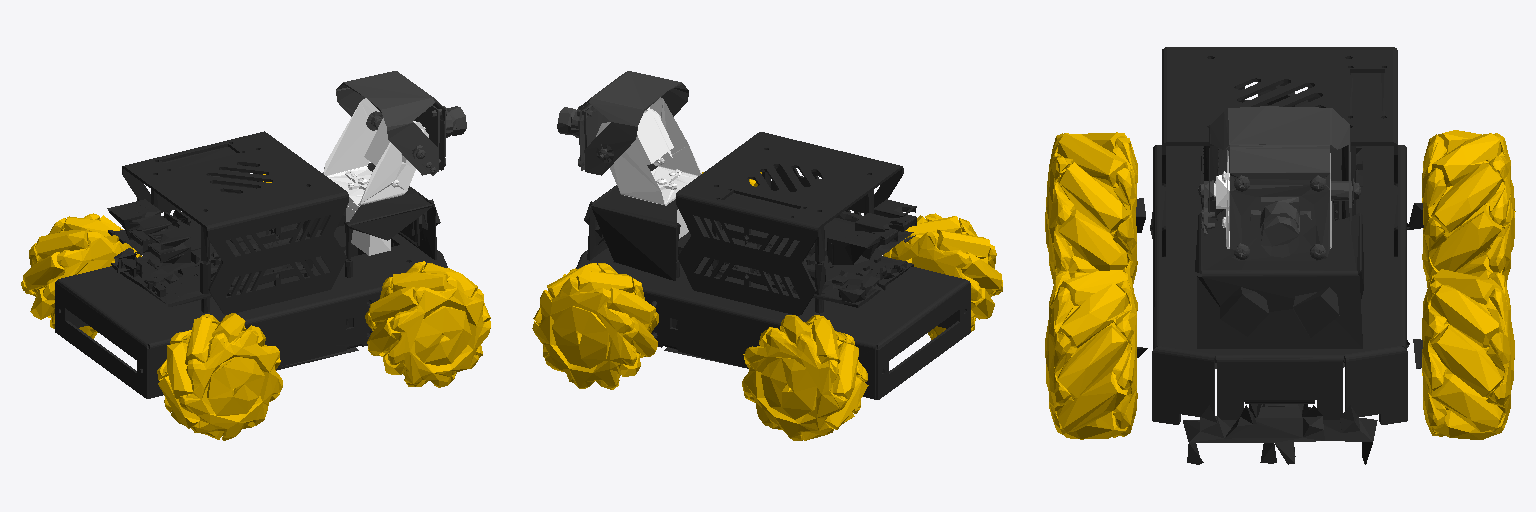
The robot description file, URDF, robot "Raspbot-V2":
<?xml version="1.0" encoding="utf-8"?>
<!-- Yahboom Raspbot V2 model from ros-humble:0.1.0 in the factory disk image.
     The four wheel joints and the camera pan (arm1_Joint) and tilt (arm2_Joint)
     are continuous. Joint zero is the forward camera pose (pan servo 90 degrees,
     tilt servo 25 degrees). Positive pan is left and positive tilt is up.
     See README.md for the physical camera check. -->
<!-- This URDF was automatically created by SolidWorks to URDF Exporter! Originally created by Stephen Brawner (brawner@gmail.com)
     Commit Version: 1.6.0-4-g7f85cfe  Build Version: 1.6.7995.38578
     For more information, please see http://wiki.ros.org/sw_urdf_exporter -->
<robot
  name="Raspbot-V2">
  <link
    name="base_link">
    <inertial>
      <origin
        xyz="0.015579414282182 0.00033454072034559 0.0254083238154235"
        rpy="0 0 0" />
      <mass
        value="0.277266847071949" />
      <inertia
        ixx="0.000119879638808664"
        ixy="-3.27505120052508E-08"
        ixz="-4.16555813478142E-08"
        iyy="0.000209925057802856"
        iyz="2.76418622766581E-07"
        izz="0.000302025657109559" />
    </inertial>
    <visual>
      <origin
        xyz="0 0 0"
        rpy="0 0 0" />
      <geometry>
        <mesh
          filename="assets/base_link.STL" />
      </geometry>
      <material
        name="">
        <color
          rgba="0.203921568627451 0.203921568627451 0.203921568627451 1" />
      </material>
    </visual>
    <collision>
      <origin
        xyz="0 0 0"
        rpy="0 0 0" />
      <geometry>
        <mesh
          filename="assets/base_link.STL" />
      </geometry>
    </collision>
  </link>
  <link
    name="l1_Link">
    <inertial>
      <origin
        xyz="1.78446179707747E-08 0.00115093443907621 -8.02931999499545E-08"
        rpy="0 0 0" />
      <mass
        value="0.0621175903492224" />
      <inertia
        ixx="1.60210369337653E-05"
        ixy="3.43785525584805E-11"
        ixz="-9.02615043713342E-12"
        iyy="2.5769061705676E-05"
        iyz="1.35066118057968E-11"
        izz="1.60211213285766E-05" />
    </inertial>
    <visual>
      <origin
        xyz="0 0 0"
        rpy="0 0 0" />
      <geometry>
        <mesh
          filename="assets/l1_Link.STL" />
      </geometry>
      <material
        name="">
        <color
          rgba="0.968627450980392 0.76078431372549 0 1" />
      </material>
    </visual>
    <collision>
      <origin
        xyz="0 0 0"
        rpy="0 0 0" />
      <geometry>
        <mesh
          filename="assets/l1_Link.STL" />
      </geometry>
    </collision>
  </link>
  <joint
    name="l1_Joint"
    type="continuous">
    <origin
      xyz="0.0566 0.0662749999999989 0.0162499999999997"
      rpy="0 0 0" />
    <parent
      link="base_link" />
    <child
      link="l1_Link" />
    <axis
      xyz="0 1 0" />
  </joint>
  <link
    name="l2__Link">
    <inertial>
      <origin
        xyz="2.2803558083484E-08 0.00115089560460579 -8.67083690958559E-09"
        rpy="0 0 0" />
      <mass
        value="0.0621182459482163" />
      <inertia
        ixx="1.60212407380175E-05"
        ixy="-3.41279855186522E-12"
        ixz="5.68778362057558E-11"
        iyy="2.57691020675976E-05"
        iyz="-2.19119695751134E-11"
        izz="1.60211497078259E-05" />
    </inertial>
    <visual>
      <origin
        xyz="0 0 0"
        rpy="0 0 0" />
      <geometry>
        <mesh
          filename="assets/l2_Link.STL" />
      </geometry>
      <material
        name="">
        <color
          rgba="0.968627450980392 0.76078431372549 0 1" />
      </material>
    </visual>
    <collision>
      <origin
        xyz="0 0 0"
        rpy="0 0 0" />
      <geometry>
        <mesh
          filename="assets/l2_Link.STL" />
      </geometry>
    </collision>
  </link>
  <joint
    name="l2_Joint"
    type="continuous">
    <origin
      xyz="-0.0605999999999997 0.0662749999999983 0.0162500000000017"
      rpy="0 0 0" />
    <parent
      link="base_link" />
    <child
      link="l2__Link" />
    <axis
      xyz="0 1 0" />
  </joint>
  <link
    name="r1_Link">
    <inertial>
      <origin
        xyz="7.51903645040963E-08 -0.00115088315214759 -1.72979823520603E-08"
        rpy="0 0 0" />
      <mass
        value="0.0621184289730623" />
      <inertia
        ixx="1.60212009784984E-05"
        ixy="-2.99625133670286E-11"
        ixz="-2.40881432794494E-11"
        iyy="2.57692344855104E-05"
        iyz="-4.52750714768719E-11"
        izz="1.60213367542239E-05" />
    </inertial>
    <visual>
      <origin
        xyz="0 0 0"
        rpy="0 0 0" />
      <geometry>
        <mesh
          filename="assets/r1_Link.STL" />
      </geometry>
      <material
        name="">
        <color
          rgba="0.968627450980392 0.76078431372549 0 1" />
      </material>
    </visual>
    <collision>
      <origin
        xyz="0 0 0"
        rpy="0 0 0" />
      <geometry>
        <mesh
          filename="assets/r1_Link.STL" />
      </geometry>
    </collision>
  </link>
  <joint
    name="r1_Joint"
    type="continuous">
    <origin
      xyz="0.0566 -0.0662750000000001 0.0162500000000003"
      rpy="0 0 0" />
    <parent
      link="base_link" />
    <child
      link="r1_Link" />
    <axis
      xyz="0 -1 0" />
  </joint>
  <link
    name="r2_Link">
    <inertial>
      <origin
        xyz="7.74810646891888E-08 -0.00115093470192544 2.52953823443036E-08"
        rpy="0 0 0" />
      <mass
        value="0.0621175854362522" />
      <inertia
        ixx="1.60211070245519E-05"
        ixy="-5.45644401826571E-12"
        ixz="3.22370881509542E-11"
        iyy="2.57690598424952E-05"
        iyz="3.70605115609442E-11"
        izz="1.60210484479826E-05" />
    </inertial>
    <visual>
      <origin
        xyz="0 0 0"
        rpy="0 0 0" />
      <geometry>
        <mesh
          filename="assets/r2_Link.STL" />
      </geometry>
      <material
        name="">
        <color
          rgba="0.968627450980392 0.76078431372549 0 1" />
      </material>
    </visual>
    <collision>
      <origin
        xyz="0 0 0"
        rpy="0 0 0" />
      <geometry>
        <mesh
          filename="assets/r2_Link.STL" />
      </geometry>
    </collision>
  </link>
  <joint
    name="r2_Joint"
    type="continuous">
    <origin
      xyz="-0.0605999999999998 -0.0662750000000001 0.0162500000000018"
      rpy="0 0 0" />
    <parent
      link="base_link" />
    <child
      link="r2_Link" />
    <axis
      xyz="0 -1 0" />
  </joint>
  <link
    name="arm1_Link">
    <inertial>
      <origin
        xyz="0.00683637702872688 -0.0056586005709569 0.0106794777164742"
        rpy="0 0 0" />
      <mass
        value="0.0185757715462679" />
      <inertia
        ixx="2.31300523163086E-06"
        ixy="-1.46375070607455E-09"
        ixz="-2.69021062043065E-07"
        iyy="1.41438797000959E-06"
        iyz="-2.57373175363647E-08"
        izz="1.7679481913112E-06" />
    </inertial>
    <visual>
      <origin
        xyz="0 0 0"
        rpy="0 0 0" />
      <geometry>
        <mesh
          filename="assets/arm1_Link.STL" />
      </geometry>
      <material
        name="">
        <color
          rgba="1 1 1 1" />
      </material>
    </visual>
    <collision>
      <origin
        xyz="0 0 0"
        rpy="0 0 0" />
      <geometry>
        <mesh
          filename="assets/arm1_Link.STL" />
      </geometry>
    </collision>
  </link>
  <joint
    name="arm1_Joint"
    type="continuous">
    <origin
      xyz="0.0580000000000002 0 0.0575000000000019"
      rpy="0 0 0" />
    <parent
      link="base_link" />
    <child
      link="arm1_Link" />
    <axis
      xyz="0 0 1" />
    <limit
      lower="0"
      upper="0"
      effort="0"
      velocity="0" />
  </joint>
  <link
    name="arm2_Link">
    <inertial>
      <origin
        xyz="0.0135675940886932 0.0188776198697839 0.00259174889573699"
        rpy="0 0 0" />
      <mass
        value="0.0133313425891697" />
      <inertia
        ixx="1.97424244741482E-06"
        ixy="2.11903184025763E-09"
        ixz="2.61235056695239E-07"
        iyy="1.52500945654192E-06"
        iyz="4.39036974631989E-09"
        izz="1.98147244330847E-06" />
    </inertial>
    <visual>
      <origin
        xyz="0 0 0"
        rpy="0 0 0" />
      <geometry>
        <mesh
          filename="assets/arm2_Link.STL" />
      </geometry>
      <material
        name="">
        <color
          rgba="0.298039215686275 0.298039215686275 0.298039215686275 1" />
      </material>
    </visual>
    <collision>
      <origin
        xyz="0 0 0"
        rpy="0 0 0" />
      <geometry>
        <mesh
          filename="assets/arm2_Link.STL" />
      </geometry>
    </collision>
  </link>
  <joint
    name="arm2_Joint"
    type="continuous">
    <origin
      xyz="0.0168644546973269 -0.0180500000000011 0.0314594573193254"
      rpy="0 0 0" />
    <parent
      link="arm1_Link" />
    <child
      link="arm2_Link" />
    <axis
      xyz="0 -1 0" />
    <limit
      lower="0"
      upper="0"
      effort="0"
      velocity="0" />
  </joint>
</robot>

--- What the picture shows (computed from the rendered views, not written in the file) ---
The picture shows the robot from 3 angles, left to right: view 1: azimuth 30°, elevation 25°; view 2: azimuth 150°, elevation 25°; view 3: azimuth 270°, elevation 25°; orthographic projection.
Robot: Raspbot-V2 — 7 links, 6 joints (6 continuous); root link base_link; default pose: every joint at zero.
Visible links, largest first — view 1: base_link, r1_Link, r2_Link, arm2_Link, arm1_Link, l2__Link; view 2: base_link, l2__Link, l1_Link, arm2_Link, r2_Link, arm1_Link; view 3: base_link, arm2_Link, r1_Link, l1_Link, l2__Link, r2_Link, arm1_Link.
Boxes of the visible links, box(x1,y1,x2,y2) form: base_link: box(55, 131, 447, 398); r1_Link: box(365, 261, 490, 387); r2_Link: box(157, 313, 282, 440); arm2_Link: box(336, 71, 466, 175); arm1_Link: box(323, 98, 428, 255); l2__Link: box(21, 213, 141, 338); base_link: box(576, 132, 970, 399); l2__Link: box(742, 315, 868, 440); l1_Link: box(532, 263, 658, 389); arm2_Link: box(557, 71, 688, 175); r2_Link: box(883, 213, 1002, 339); arm1_Link: box(596, 97, 701, 238); base_link: box(1136, 47, 1423, 464); arm2_Link: box(1198, 106, 1360, 260); r1_Link: box(1045, 270, 1137, 439); l1_Link: box(1422, 269, 1514, 439); l2__Link: box(1422, 130, 1515, 287); r2_Link: box(1045, 132, 1137, 283); arm1_Link: box(1214, 150, 1331, 248).
Bounding box of the posed robot: 0.2043 × 0.1672 × 0.1283 m (x, y, z).
7 mesh visuals loaded from 7 distinct referenced files (7 binary STL).
